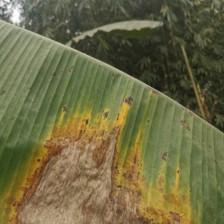pestalotiopsis: (0, 19, 224, 224)
